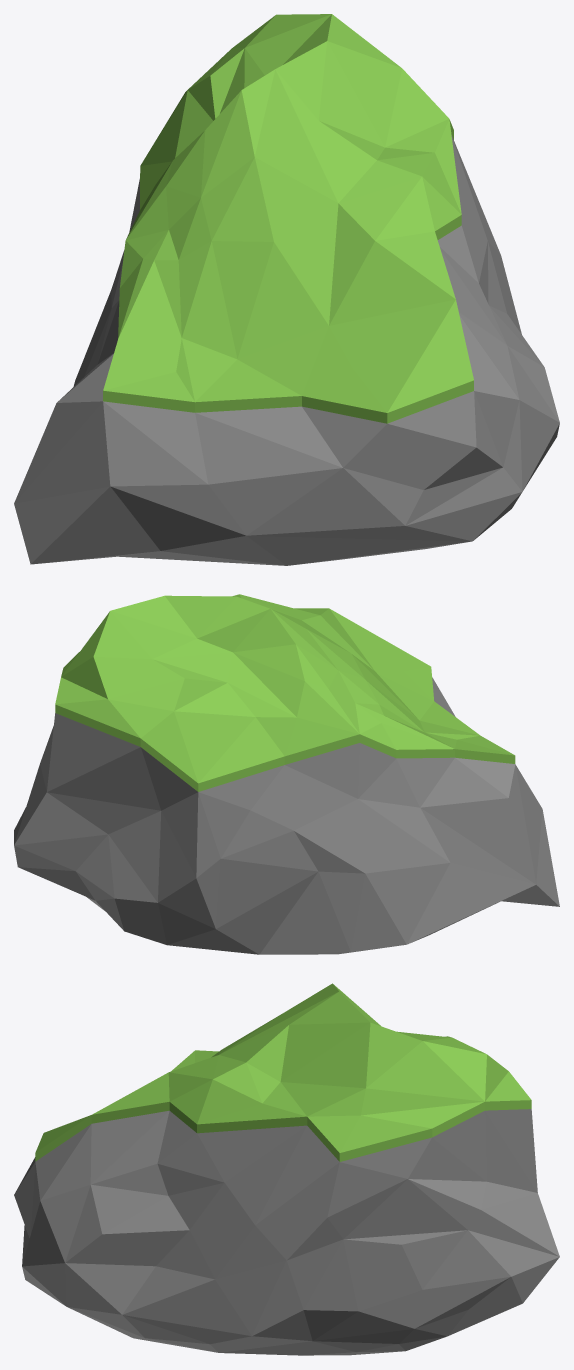
Rendered from rock02_top_grass.fbx.
3 views of the same model, one above another, from view 1: azimuth 30°, elevation 25°; view 2: azimuth 150°, elevation 25°; view 3: azimuth 270°, elevation 25° (orthographic). The views are drawn at different scales.
Parts seen in each view (by area): view 1: rock02_top_grass_LOD0; view 2: rock02_top_grass_LOD0; view 3: rock02_top_grass_LOD0.
Boxes of the visible parts, x1=… form: rock02_top_grass_LOD0: x1=14, y1=14, x2=559, y2=565; rock02_top_grass_LOD0: x1=14, y1=594, x2=559, y2=954; rock02_top_grass_LOD0: x1=14, y1=983, x2=559, y2=1355.
Size of what is drawn, in the model's own units: 201 by 150 by 219.
